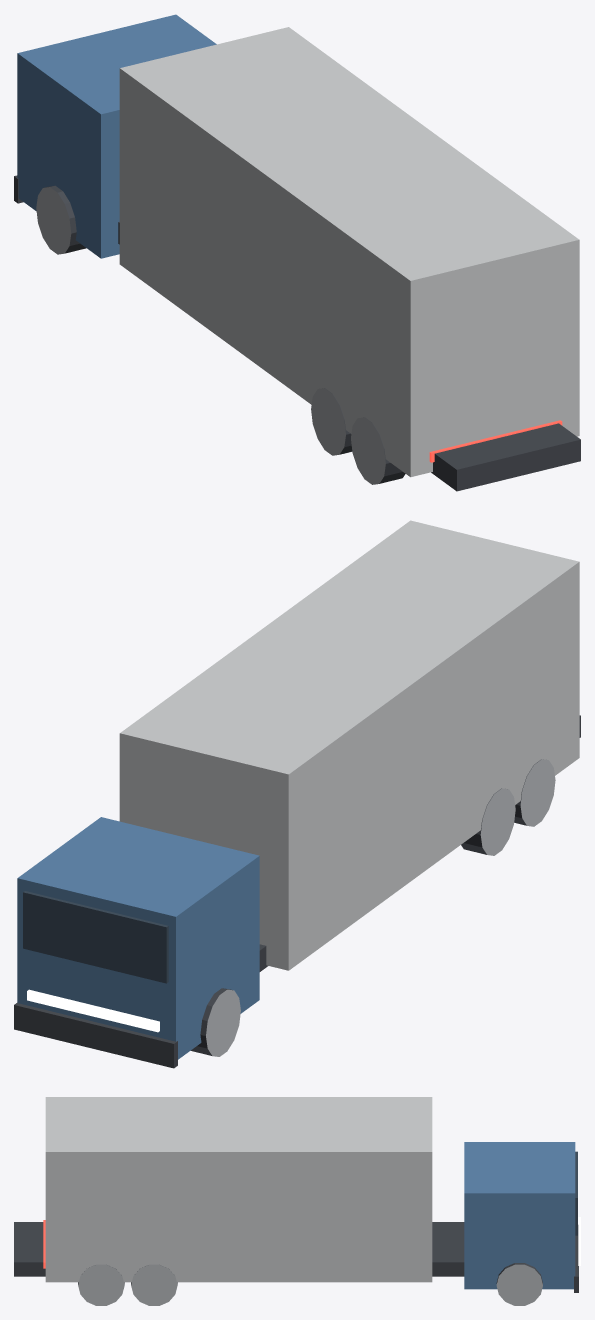
The model's file is truck.glb.
3 views of the same model, one above another, from view 1: azimuth 30°, elevation 25°; view 2: azimuth 150°, elevation 25°; view 3: azimuth 270°, elevation 25° (orthographic). The views are drawn at different scales.
Parts seen in each view (by area): view 1: trailer, cab, wheel (×3), chassis; view 2: trailer, cab, windshield, wheel (×3), bumper, headlights; view 3: trailer, cab, wheel (×3), chassis.
Part boxes in pixels (x1=…): trailer: x1=119, y1=27, x2=579, y2=477; cab: x1=17, y1=14, x2=216, y2=258; wheel (×3): x1=36, y1=185, x2=405, y2=484; chassis: x1=118, y1=222, x2=580, y2=491; trailer: x1=119, y1=520, x2=579, y2=970; cab: x1=17, y1=817, x2=259, y2=1059; windshield: x1=23, y1=891, x2=168, y2=983; wheel (×3): x1=191, y1=759, x2=555, y2=1056; bumper: x1=14, y1=1003, x2=177, y2=1068; headlights: x1=27, y1=989, x2=159, y2=1032; trailer: x1=45, y1=1097, x2=432, y2=1282; cab: x1=464, y1=1142, x2=575, y2=1289; wheel (×3): x1=78, y1=1263, x2=542, y2=1305; chassis: x1=14, y1=1222, x2=464, y2=1276.
Bounding box in the file's own units: 2.46 × 3.21 × 10.7.
